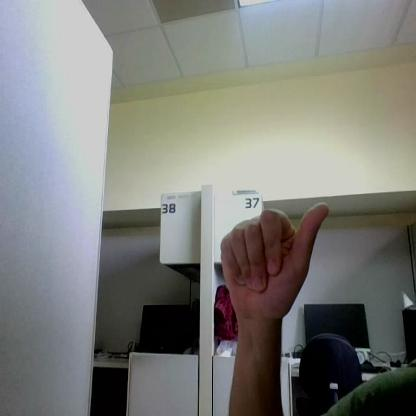A: (221, 203, 329, 319)
